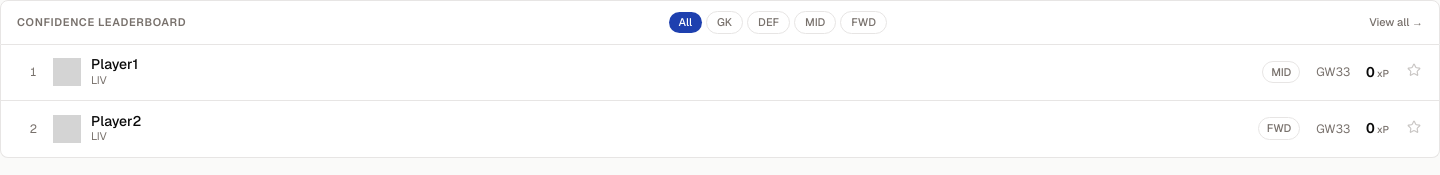
Test: LeaderboardPreview › switching tabs updates displayed players
Expected: the text "Player1" is shown, [91,56,138,74]
Expected: the text "Player2" is shown, [91,113,141,130]
# Switch to GK tab
Step 1. Click the tab "GK" → (725, 22), box [706,11,743,34]
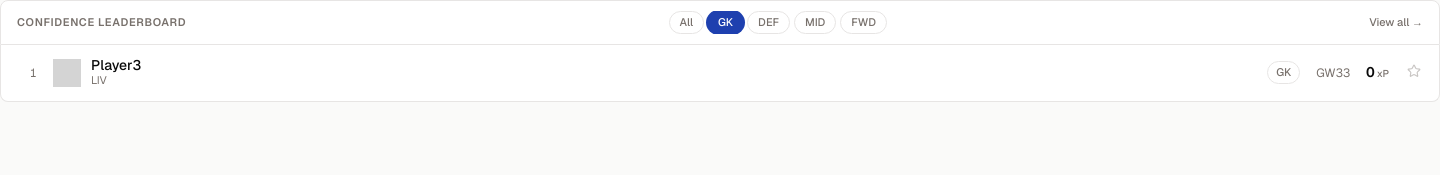
Expected: the text "Player3" is shown, [91,57,141,74]
Expected: the text "Player1" is gone
